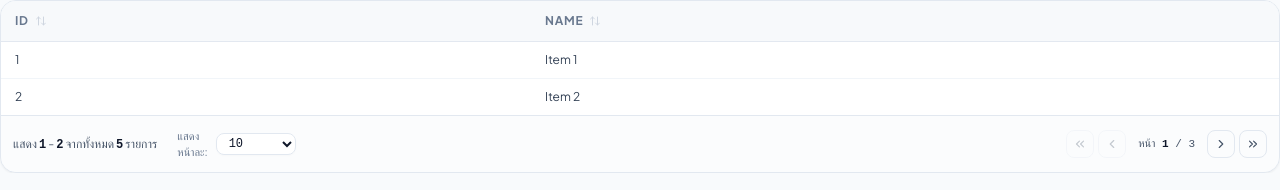
Test: DataTable UI Component - TanStack Table v8 › renders and operates pagination toolbar correctly
Expected: the text "Item 1" is shown, [531,42,1279,78]
Expected: the text "Item 2" is shown, [531,78,1279,115]
Click next page
Click the button titled "หน้าถัดไป" at coordinates (1221, 144), box [1207,130,1235,158]
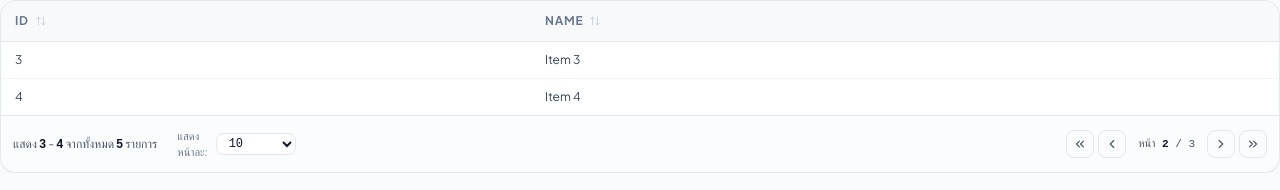
Now the text "Item 3" is shown, box [531,42,1279,78]
Now the text "Item 4" is shown, box [531,78,1279,115]
Now the text "Item 1" is gone
